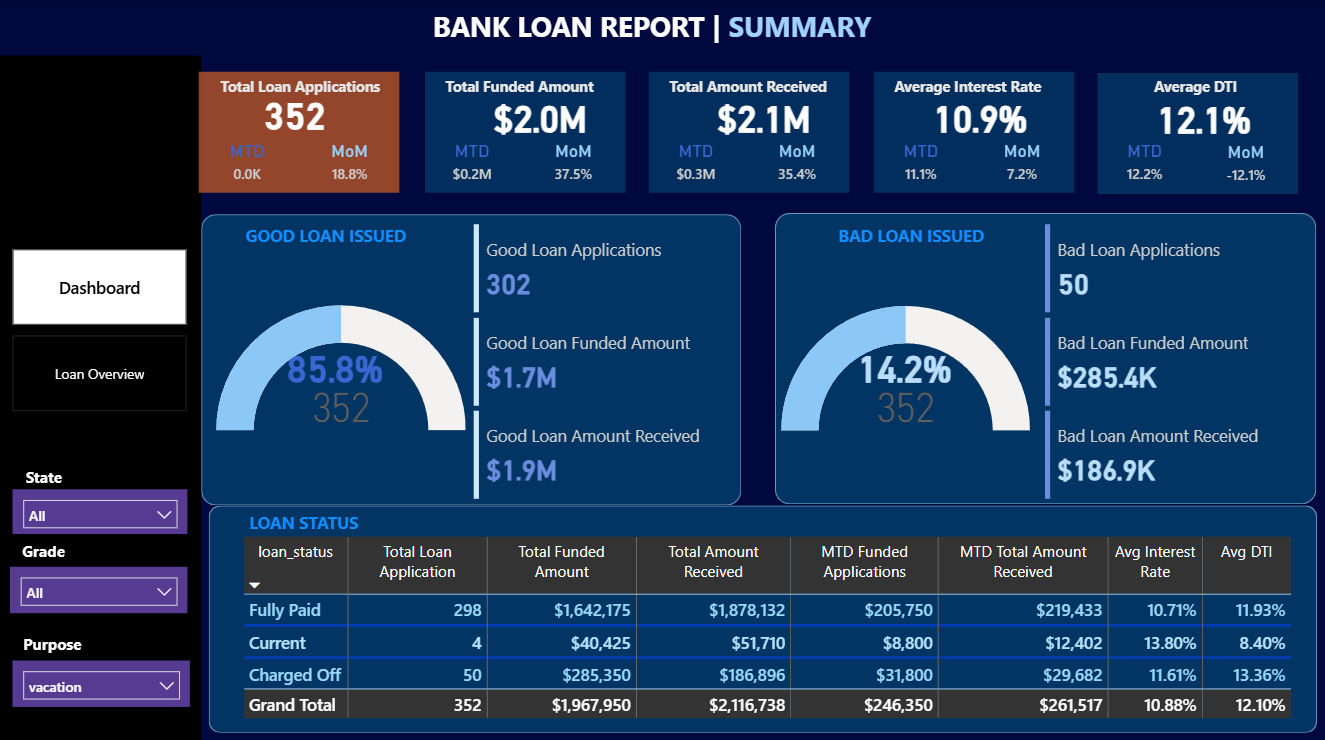

The dashboard page shown, as its layout file describes it:
{"tool":"powerbi","page":{"name":"Dashboard","canvas":[1280,720],"ordinal":0},"visuals":[{"type":"shape","box":[0,55.5,194.2,664.5],"z":0},{"type":"shape","box":[410.2,71.3,193.7,117],"z":0,"group":"g3"},{"type":"shape","box":[626.7,71.3,193.7,117],"z":0,"group":"g4"},{"type":"shape","box":[843.2,71.3,193.7,117],"z":0,"group":"g5"},{"type":"shape","box":[192.3,71.4,193.7,117],"z":0,"group":"g1"},{"type":"shape","box":[1059.7,71.9,193.7,117],"z":0,"group":"g6"},{"type":"card","fields":{"Values":["bank_loan_data.Total Loan Application"]},"box":[228.8,76.7,113.6,69.9],"z":1000,"group":"g1"},{"type":"card","fields":{"Values":["bank_loan_data.Total Funded Amount"]},"box":[447.1,82,147.9,64.6],"z":1000,"group":"g3"},{"type":"card","fields":{"Values":["bank_loan_data.Total Amount Received"]},"box":[663.6,82,147.9,64.6],"z":1000,"group":"g4"},{"type":"card","fields":{"Values":["bank_loan_data.Avg Interest Rate"]},"box":[872.1,82.5,147.9,64.6],"z":1000,"group":"g5"},{"type":"card","fields":{"Values":["bank_loan_data.Avg DTI"]},"box":[1088.6,83.1,147.9,64.6],"z":1000,"group":"g6"},{"type":"shape","box":[201.4,489.6,1069.7,219.5],"z":1000},{"type":"textbox","box":[204.7,71.3,197.8,40.3],"z":2000,"group":"g1"},{"type":"textbox","box":[420.9,71.3,197.8,40.3],"z":2000,"group":"g3"},{"type":"textbox","box":[637.4,71.3,197.8,40.3],"z":2000,"group":"g4"},{"type":"textbox","box":[853.9,71.3,197.8,40.3],"z":2000,"group":"g5"},{"type":"textbox","box":[1070.1,71.3,169.4,40.3],"z":2000,"group":"g6"},{"type":"textbox","box":[204.4,213.8,248.8,37.7],"z":2000,"group":"g7"},{"type":"textbox","box":[12.1,447.4,95.3,31.4],"z":2000,"group":"g9"},{"type":"textbox","box":[207.4,489.6,248.8,37.7],"z":2000,"group":"g8"},{"type":"card","title":"MTD","fields":{"Values":["bank_loan_data.MTD Loan Applications"]},"box":[204.7,137.2,69.5,51.1],"z":3000,"group":"g1"},{"type":"card","title":"MTD","fields":{"Values":["bank_loan_data.MTD Funded Applications"]},"box":[420.9,137.2,69.5,51.1],"z":3000,"group":"g3"},{"type":"card","title":"MTD","fields":{"Values":["bank_loan_data.MTD Total Amount Received"]},"box":[637.4,137.2,69.5,51.1],"z":3000,"group":"g4"},{"type":"card","title":"MTD","fields":{"Values":["bank_loan_data.MTD Average Interest Rate"]},"box":[853.9,137.2,69.5,51.1],"z":3000,"group":"g5"},{"type":"card","title":"MTD","fields":{"Values":["bank_loan_data.MTD Average DTI"]},"box":[1070.4,137.8,69.5,51.1],"z":3000,"group":"g6"},{"type":"textbox","box":[12.1,517.4,83.2,31.4],"z":3000},{"type":"group","id":"g1","title":"Group 2","box":[192.3,71.3,210.2,117.1],"z":3005,"group":"g2"},{"type":"card","title":"MoM","fields":{"Values":["bank_loan_data.MoM Loan Applications"]},"box":[303,138.2,69.5,49.8],"z":4000,"group":"g1"},{"type":"card","title":"MoM","fields":{"Values":["bank_loan_data.MoM Total Funded Amount"]},"box":[519.1,138.2,69.5,49.8],"z":4000,"group":"g3"},{"type":"card","title":"MoM","fields":{"Values":["bank_loan_data.MoM Total Amount Received"]},"box":[735.6,138.2,69.5,49.8],"z":4000,"group":"g4"},{"type":"card","title":"MoM","fields":{"Values":["bank_loan_data.MoM Average Interest Rate"]},"box":[952.1,138.2,69.5,49.8],"z":4000,"group":"g5"},{"type":"card","title":"MoM","fields":{"Values":["bank_loan_data.MoM Average DTI"]},"box":[1168.6,138.9,69.5,49.8],"z":4000,"group":"g6"},{"type":"textbox","box":[9.6,607.8,117,31.4],"z":4000},{"type":"shape","box":[748,207.5,522.4,281.1],"z":5000},{"type":"shape","box":[194.2,208.7,521.2,281.1],"z":6000},{"type":"textbox","box":[784,213.8,203.1,37.7],"z":7000},{"type":"card","fields":{"Values":["bank_loan_data.Good Loan %"]},"box":[262.2,322.8,123.7,64.6],"z":8000},{"type":"textbox","box":[412.9,4,520.4,45.7],"z":9000},{"type":"group","id":"g2","title":"Group 1","box":[192.3,71.3,210.2,117.1],"z":10000},{"type":"group","id":"g3","title":"Group 2","box":[410.2,71.3,208.4,117],"z":11000},{"type":"group","id":"g4","title":"Group 2","box":[626.7,71.3,208.4,117],"z":12000},{"type":"group","id":"g5","title":"Group 2","box":[843.2,71.3,208.4,117],"z":13000},{"type":"group","id":"g6","title":"Group 2","box":[1059.7,71.3,193.7,117],"z":14000},{"type":"gauge","fields":{"Y":["bank_loan_data.Total Loan Application"]},"box":[203.8,242.4,250.9,229.1],"z":15000},{"type":"group","id":"g7","title":"Group 2","box":[204.4,213.8,248.8,37.7],"z":16000},{"type":"cardVisual","fields":{"Data":["bank_loan_data.Good Loan Applications","bank_loan_data.Good Loan Funded Amount","bank_loan_data.Good Loan Amount Received"]},"box":[452.4,213.5,273.9,276.3],"z":17000},{"type":"gauge","fields":{"Y":["bank_loan_data.Total Loan Application"]},"box":[749.1,242.1,250.1,230],"z":18000},{"type":"card","fields":{"Values":["bank_loan_data.Bad Loan %"]},"box":[810.9,322.8,125.1,64.6],"z":19000},{"type":"cardVisual","fields":{"Data":["bank_loan_data.Bad Loan Applications","bank_loan_data.Bad Loan Funded Amount","bank_loan_data.Bad Loan Amount Received"]},"box":[1003.8,213.5,266.6,275.1],"z":20000},{"type":"tableEx","fields":{"Values":["bank_loan_data.loan_status","bank_loan_data.Total Loan Application","bank_loan_data.Total Funded Amount","bank_loan_data.Total Amount Received","bank_loan_data.MTD Funded Applications","bank_loan_data.MTD Total Amount Received","bank_loan_data.Avg Interest Rate","bank_loan_data.Avg DTI"]},"box":[229.1,515,1025.1,194.2],"z":21000},{"type":"group","id":"g8","title":"Group 2","box":[207.4,489.6,248.4,37.4],"z":22000},{"type":"slicer","fields":{"Values":["bank_loan_data.address_state"]},"box":[12.1,474,168.8,43.4],"z":23000},{"type":"slicer","fields":{"Values":["bank_loan_data.grade"]},"box":[9.6,548.7,171.3,44.6],"z":24000},{"type":"slicer","fields":{"Values":["bank_loan_data.purpose"]},"box":[12.1,639.2,171.3,44.6],"z":25000},{"type":"group","id":"g9","title":"Group 2","box":[12.1,447.4,95.3,31.4],"z":26000},{"type":"pageNavigator","box":[12.1,242.4,168.8,158],"z":27000}]}

Visuals, with their boxes in screenshot pixels (x1, y1, x2, y2), scaled from the page's 1280x720 canvas onto the 1325x740 screenshot:
shape: x1=0 y1=57 x2=201 y2=739
shape: x1=425 y1=73 x2=625 y2=194
shape: x1=649 y1=73 x2=849 y2=194
shape: x1=873 y1=73 x2=1073 y2=194
shape: x1=199 y1=73 x2=400 y2=194
shape: x1=1097 y1=74 x2=1297 y2=194
card - bank_loan_data.Total Loan Application: x1=237 y1=79 x2=354 y2=151
card - bank_loan_data.Total Funded Amount: x1=463 y1=84 x2=616 y2=151
card - bank_loan_data.Total Amount Received: x1=687 y1=84 x2=840 y2=151
card - bank_loan_data.Avg Interest Rate: x1=903 y1=85 x2=1056 y2=151
card - bank_loan_data.Avg DTI: x1=1127 y1=85 x2=1280 y2=152
shape: x1=208 y1=503 x2=1316 y2=729
textbox: x1=212 y1=73 x2=417 y2=115
textbox: x1=436 y1=73 x2=640 y2=115
textbox: x1=660 y1=73 x2=865 y2=115
textbox: x1=884 y1=73 x2=1089 y2=115
textbox: x1=1108 y1=73 x2=1283 y2=115
textbox: x1=212 y1=220 x2=469 y2=258
textbox: x1=13 y1=460 x2=111 y2=492
textbox: x1=215 y1=503 x2=472 y2=542
"MTD" card: x1=212 y1=141 x2=284 y2=194
"MTD" card: x1=436 y1=141 x2=508 y2=194
"MTD" card: x1=660 y1=141 x2=732 y2=194
"MTD" card: x1=884 y1=141 x2=956 y2=194
"MTD" card: x1=1108 y1=142 x2=1180 y2=194
textbox: x1=13 y1=532 x2=99 y2=564
"Group 2" group: x1=199 y1=73 x2=417 y2=194
"MoM" card: x1=314 y1=142 x2=386 y2=193
"MoM" card: x1=537 y1=142 x2=609 y2=193
"MoM" card: x1=761 y1=142 x2=833 y2=193
"MoM" card: x1=986 y1=142 x2=1058 y2=193
"MoM" card: x1=1210 y1=143 x2=1282 y2=194
textbox: x1=10 y1=625 x2=131 y2=657
shape: x1=774 y1=213 x2=1315 y2=502
shape: x1=201 y1=214 x2=741 y2=503
textbox: x1=812 y1=220 x2=1022 y2=258
card - bank_loan_data.Good Loan %: x1=271 y1=332 x2=399 y2=398
textbox: x1=427 y1=4 x2=966 y2=51
"Group 1" group: x1=199 y1=73 x2=417 y2=194
"Group 2" group: x1=425 y1=73 x2=640 y2=194
"Group 2" group: x1=649 y1=73 x2=864 y2=194
"Group 2" group: x1=873 y1=73 x2=1089 y2=194
"Group 2" group: x1=1097 y1=73 x2=1297 y2=194
gauge - bank_loan_data.Total Loan Application: x1=211 y1=249 x2=471 y2=485
"Group 2" group: x1=212 y1=220 x2=469 y2=258
cardVisual - bank_loan_data.Good Loan Applications x bank_loan_data.Good Loan Funded Amount: x1=468 y1=219 x2=752 y2=503
gauge - bank_loan_data.Total Loan Application: x1=775 y1=249 x2=1034 y2=485
card - bank_loan_data.Bad Loan %: x1=839 y1=332 x2=969 y2=398
cardVisual - bank_loan_data.Bad Loan Applications x bank_loan_data.Bad Loan Funded Amount: x1=1039 y1=219 x2=1315 y2=502
tableEx - bank_loan_data.loan_status x bank_loan_data.Total Loan Application: x1=237 y1=529 x2=1298 y2=729
"Group 2" group: x1=215 y1=503 x2=472 y2=542
slicer - bank_loan_data.address_state: x1=13 y1=487 x2=187 y2=532
slicer - bank_loan_data.grade: x1=10 y1=564 x2=187 y2=610
slicer - bank_loan_data.purpose: x1=13 y1=657 x2=190 y2=703
"Group 2" group: x1=13 y1=460 x2=111 y2=492
pageNavigator: x1=13 y1=249 x2=187 y2=412
